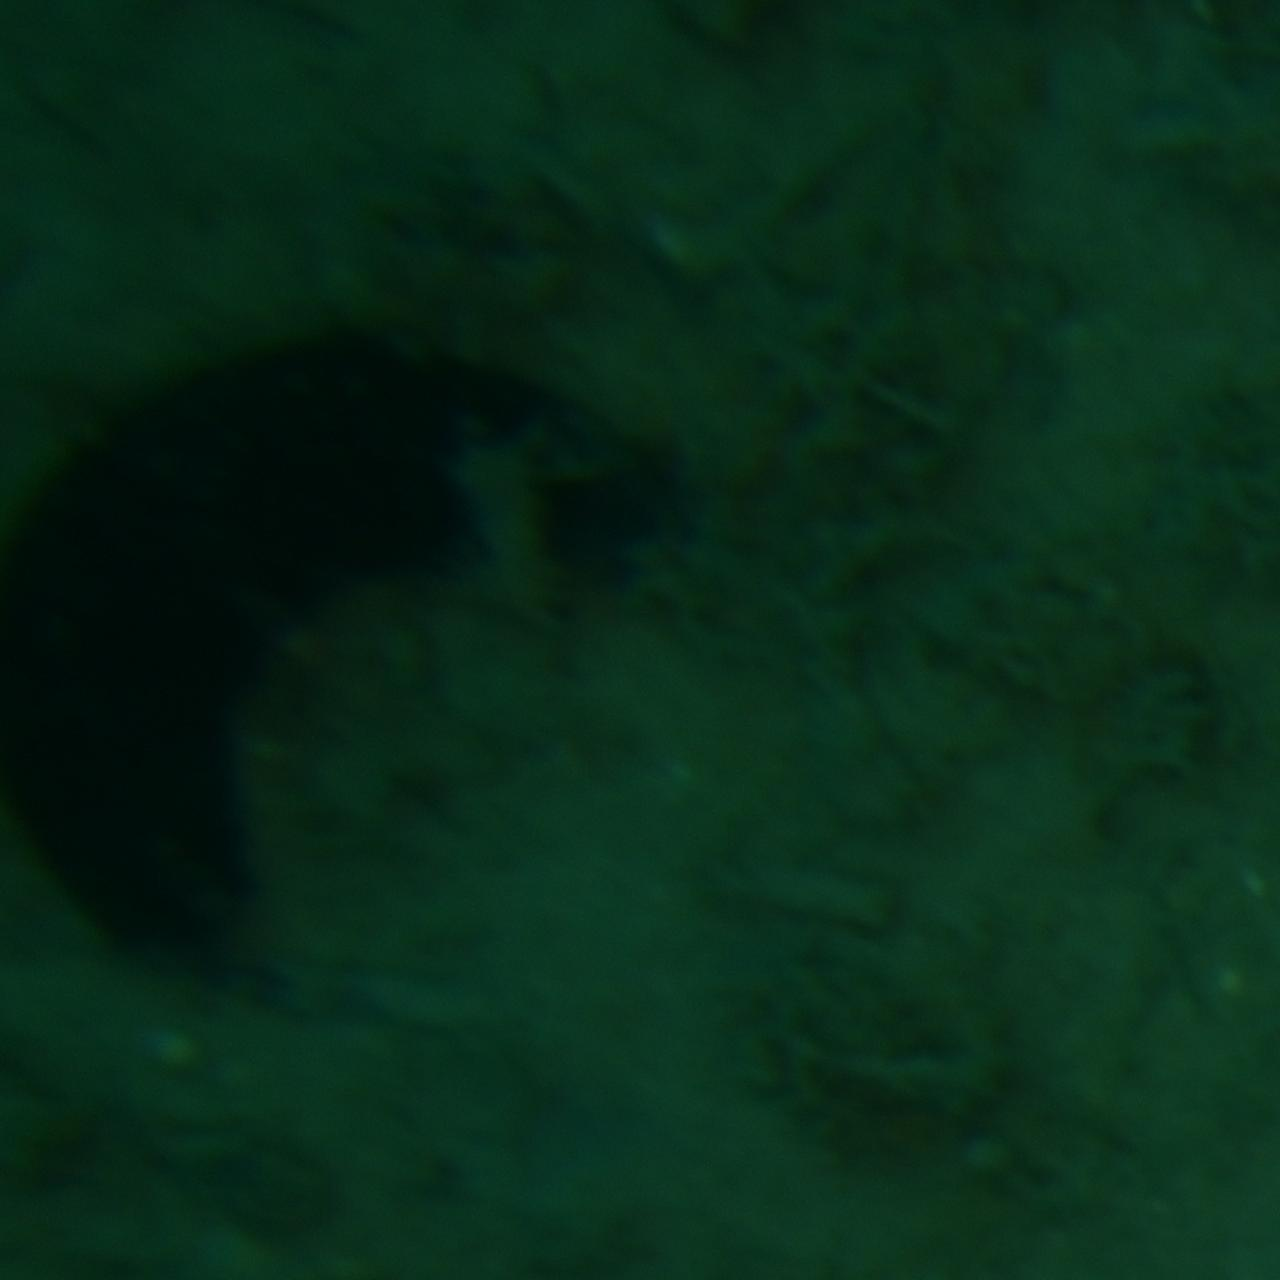Holothuria tubulosa: (0, 300, 708, 980)
